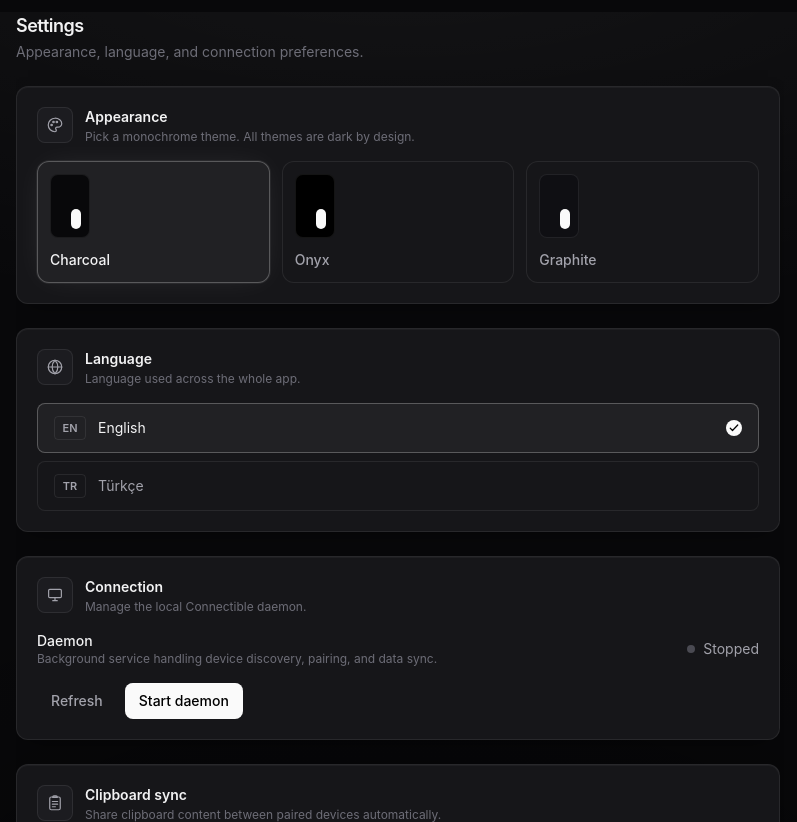
Test: SettingsPanel › starts the daemon and reflects the new status on success (T-103)
Click the button "Start daemon".
click(184, 701)  # box [125,683,243,719]
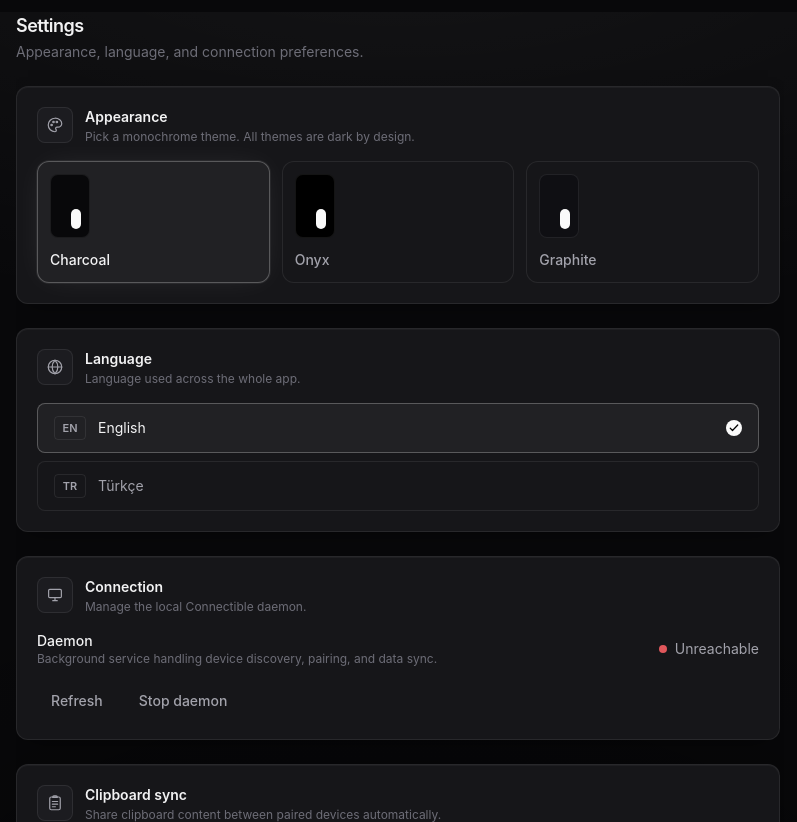
Expected: the text "Unreachable" is shown, [675,639,759,659]
Expected: the button "Stop daemon" is shown, [125,683,242,719]
